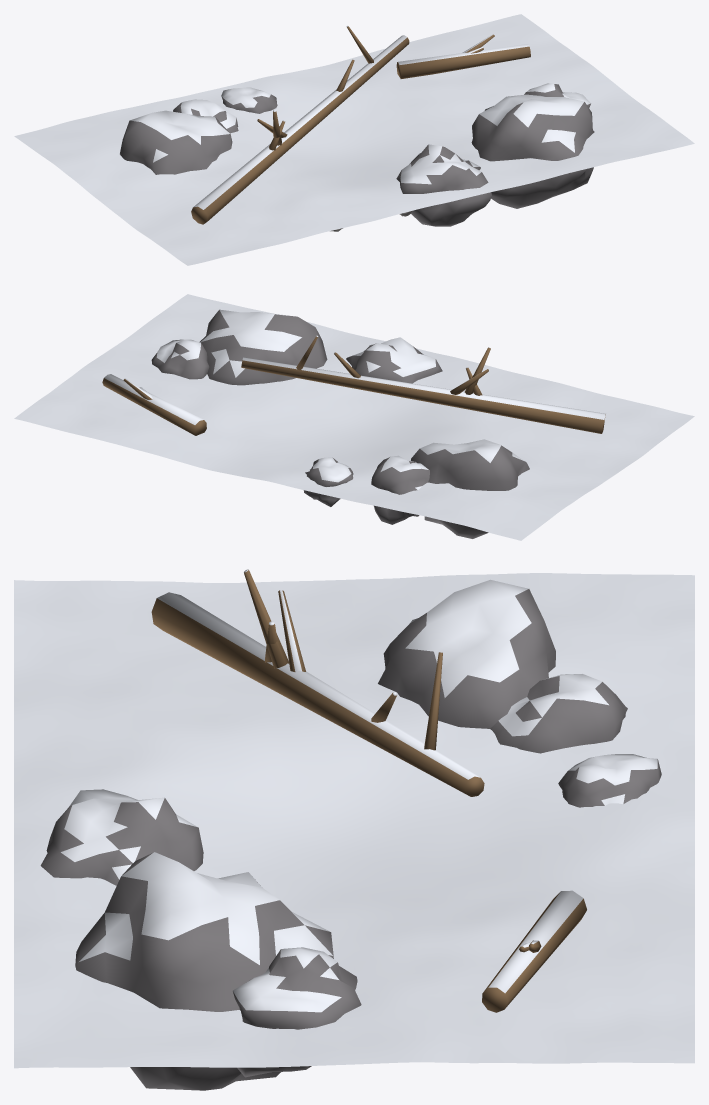
3 renders of one model, top to bottom at view 1: azimuth 30°, elevation 25°; view 2: azimuth 150°, elevation 25°; view 3: azimuth 270°, elevation 25°, orthographic. The views are drawn at different scales.
Visible parts, largest first — view 1: snow_bed, rock_2, rock_0, wood_0, rock_4, wood_1, rock_5, rock_1, rock_3; view 2: snow_bed, wood_0, rock_2, rock_0, rock_4, rock_1, wood_1, rock_3, rock_5; view 3: snow_bed, rock_2, rock_0, wood_0, rock_4, rock_3, rock_1, wood_1, rock_5.
Part boxes in pixels (x1,y1,x2,y2): snow_bed: (14, 14, 694, 265); rock_2: (471, 94, 594, 208); rock_0: (120, 110, 232, 174); wood_0: (191, 26, 409, 224); rock_4: (396, 144, 491, 226); wood_1: (396, 34, 530, 78); rock_5: (221, 87, 277, 113); rock_1: (173, 99, 238, 133); rock_3: (524, 83, 590, 107); snow_bed: (14, 294, 694, 540); wood_0: (241, 335, 605, 433); rock_2: (199, 309, 327, 385); rock_0: (411, 439, 529, 538); rock_4: (346, 337, 442, 383); rock_1: (371, 455, 429, 524); wood_1: (102, 374, 206, 435); rock_3: (151, 339, 209, 379); rock_5: (303, 457, 353, 506); snow_bed: (14, 573, 694, 1068); rock_2: (75, 852, 333, 1090); rock_0: (378, 579, 555, 728); wood_0: (151, 569, 484, 796); rock_4: (40, 789, 203, 885); rock_3: (233, 947, 361, 1077); rock_1: (490, 674, 627, 753); wood_1: (482, 890, 586, 1012); rock_5: (558, 754, 661, 807).
Bounding box in the file's own units: 5.9 × 1.74 × 3.5.
